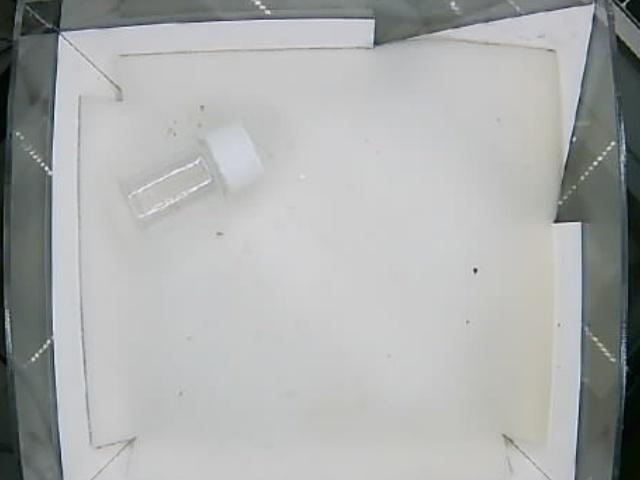Bottle: (116, 118, 263, 232)
